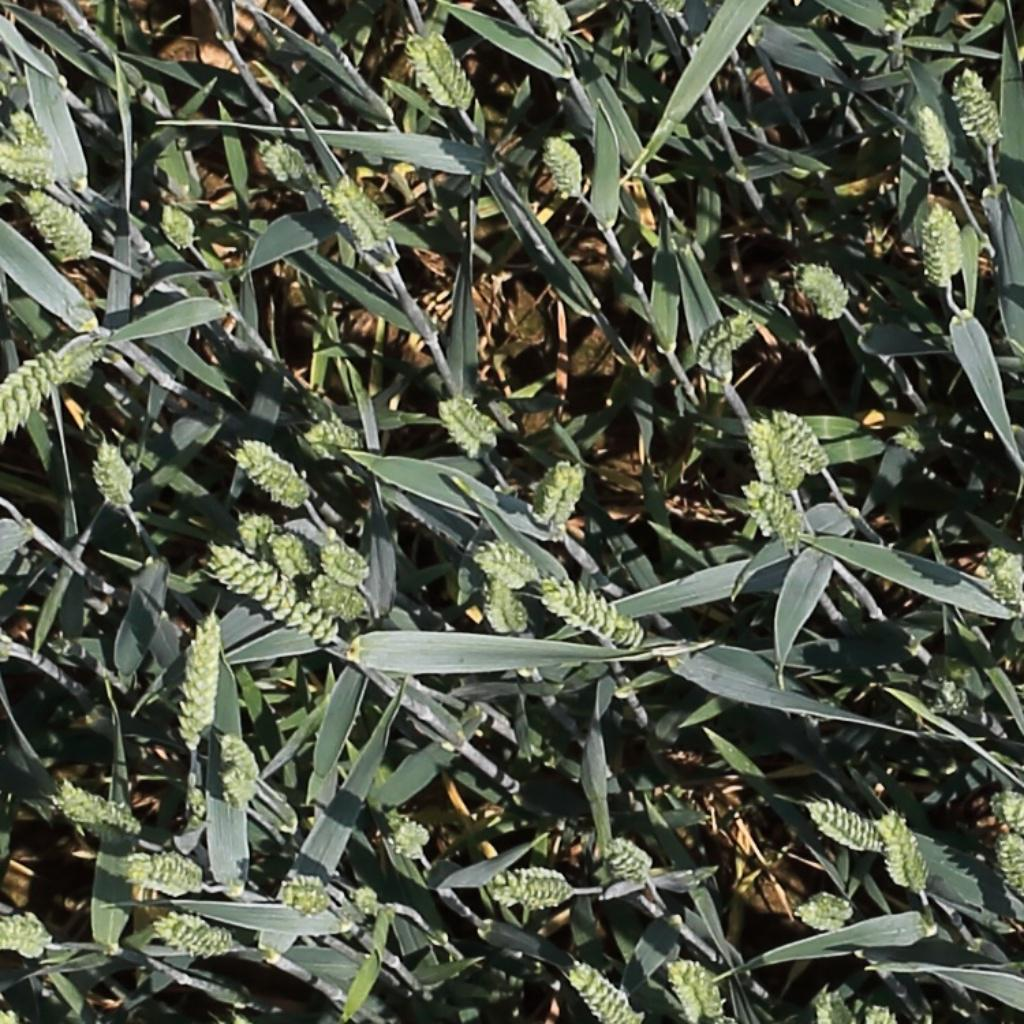0-0: (210, 546, 334, 645), (0, 341, 87, 446), (480, 856, 581, 917), (546, 584, 644, 644), (742, 412, 804, 498), (182, 614, 221, 750), (23, 187, 94, 260), (765, 404, 830, 475), (416, 31, 472, 113), (331, 173, 391, 247), (122, 851, 213, 899), (882, 809, 929, 901), (234, 443, 307, 502), (570, 961, 638, 1024), (54, 785, 139, 835), (957, 64, 1006, 150), (808, 804, 887, 856), (753, 476, 805, 552), (547, 458, 591, 543), (697, 309, 757, 370), (376, 811, 444, 863), (790, 886, 859, 937), (543, 126, 588, 200), (438, 395, 492, 456), (677, 957, 727, 1022), (532, 456, 578, 525), (925, 199, 959, 292), (95, 434, 135, 513), (800, 260, 853, 319), (916, 98, 957, 174), (981, 546, 1022, 619), (0, 909, 58, 960), (218, 730, 264, 794), (155, 917, 232, 955), (347, 882, 412, 927), (666, 957, 709, 1024), (487, 566, 525, 640), (270, 868, 333, 912), (5, 101, 54, 157), (252, 133, 305, 184), (271, 527, 316, 587), (308, 574, 367, 619), (473, 548, 542, 585), (603, 838, 652, 890), (995, 823, 1024, 907), (158, 196, 199, 252), (320, 543, 371, 587), (883, 1, 937, 36), (531, 1, 573, 45), (936, 673, 972, 722), (218, 765, 251, 817), (989, 791, 1024, 838), (0, 150, 55, 178), (305, 424, 363, 446), (859, 999, 909, 1024), (817, 980, 841, 1024)
